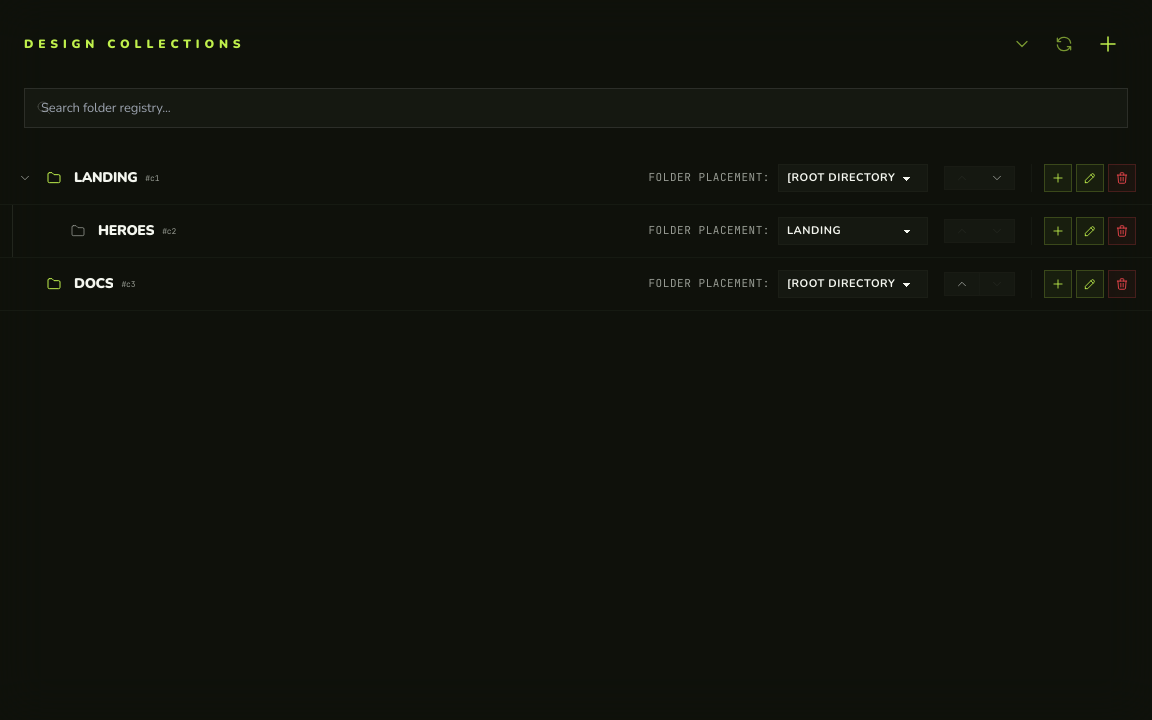
it: DesignLibrarySection › delete of a top-level collection says its recipes and sub-collections move to the top level, with counts
Expected: the text "Landing" is shown, [74,168,137,188]
Click the button titled "Purge Empty or Filled Folder" in the row of "c1": (1122,178) [1108,164,1136,192]
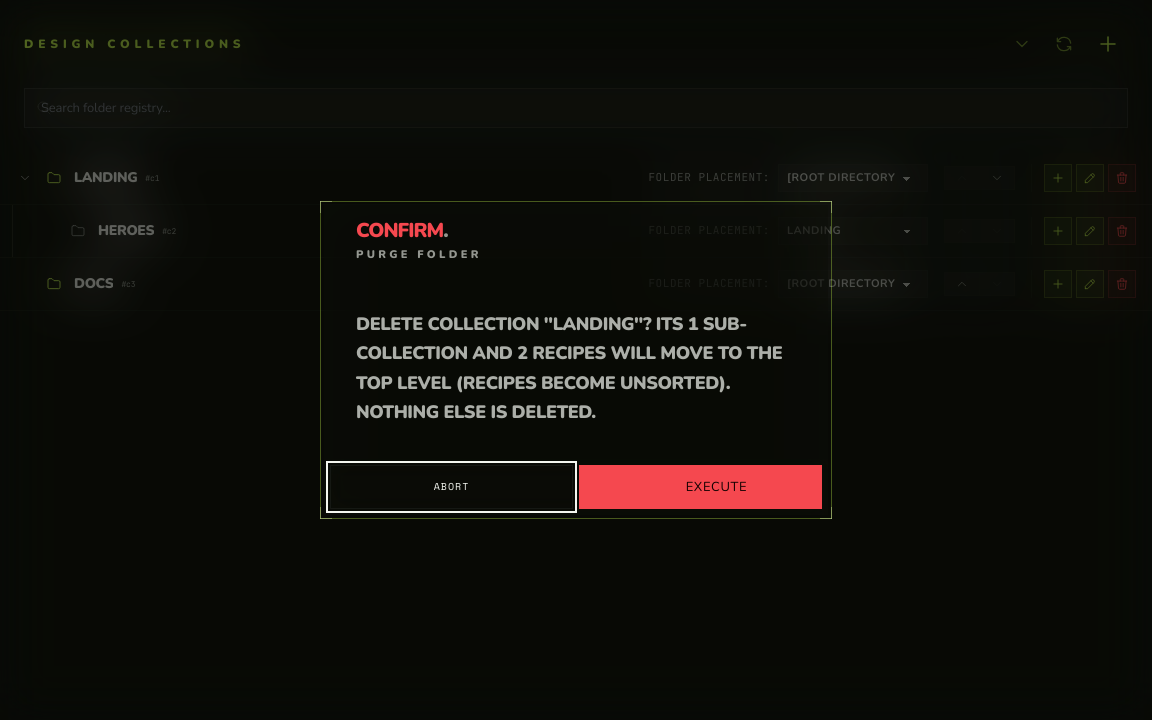
Now the text "Delete collection \"Landing\"? Its 1 sub-collection and 2 recipes will move to the top level (recipes become Unsorted). No" is shown, box [356,312,782,424]
